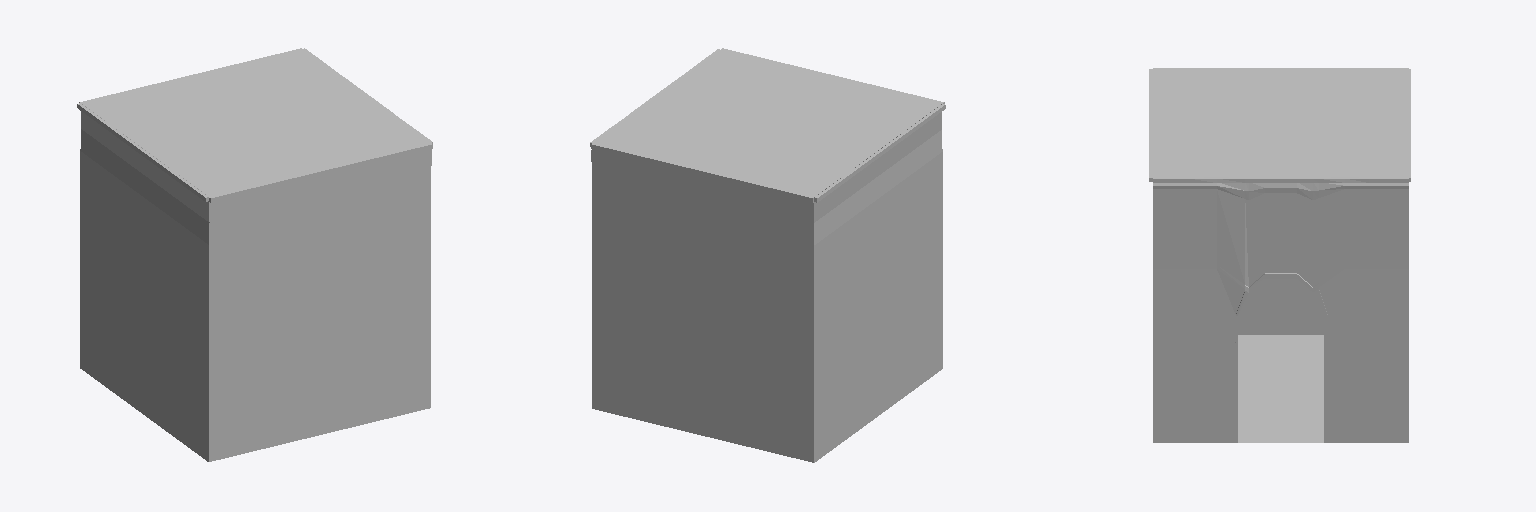
File: building1story.obj
The picture shows the model from 3 angles: view 1: azimuth 30°, elevation 25°; view 2: azimuth 150°, elevation 25°; view 3: azimuth 270°, elevation 25°; orthographic projection.
Parts seen in each view (by area): view 1: Cube; view 2: Cube; view 3: Cube.
Boxes of the visible parts, box(x1,y1,x2,y2) form: Cube: box(77, 48, 432, 461); Cube: box(590, 48, 945, 462); Cube: box(1149, 68, 1410, 442).
Bounding box in the file's own units: 4.71 × 5.24 × 4.7.